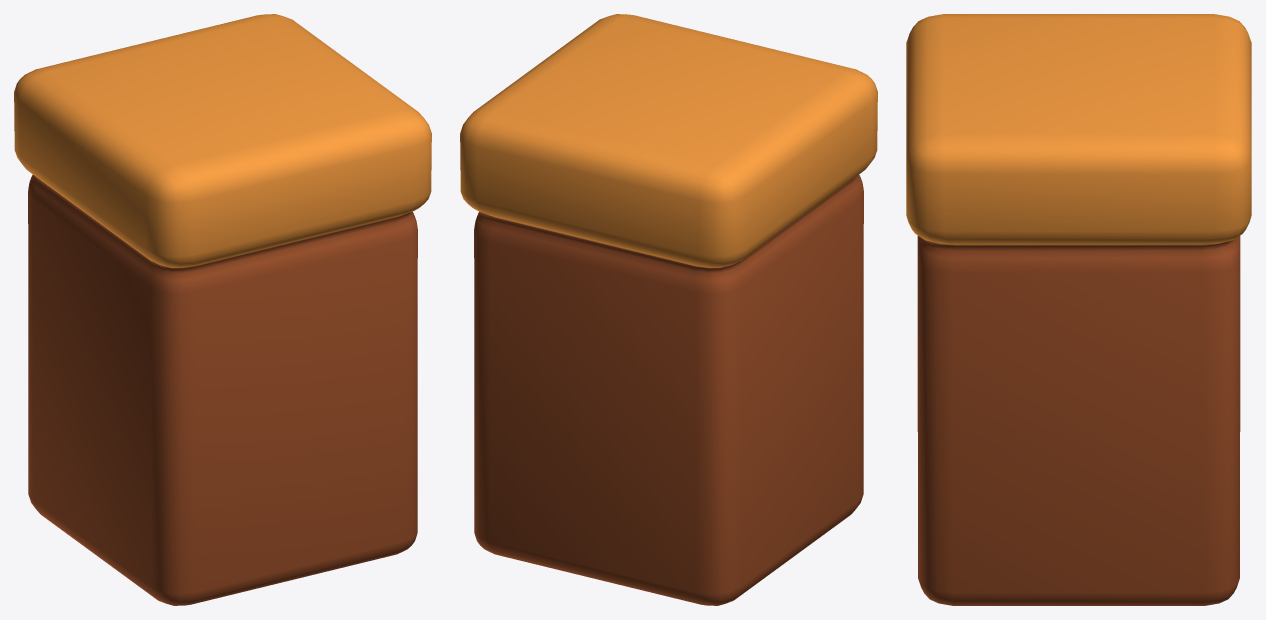
File: platform_m.glb
3 renders of one model, left to right at view 1: azimuth 30°, elevation 25°; view 2: azimuth 150°, elevation 25°; view 3: azimuth 270°, elevation 25°, orthographic. The views are drawn at different scales.
Parts seen in each view (by area): view 1: platform_m; view 2: platform_m; view 3: platform_m.
Boxes of the visible parts, <box> form: platform_m: <box>14,14,431,605</box>; platform_m: <box>460,14,877,605</box>; platform_m: <box>906,14,1251,605</box>.
Bounding box in the file's own units: 1.97 × 2.96 × 1.97.
1 material, 1 textured.
